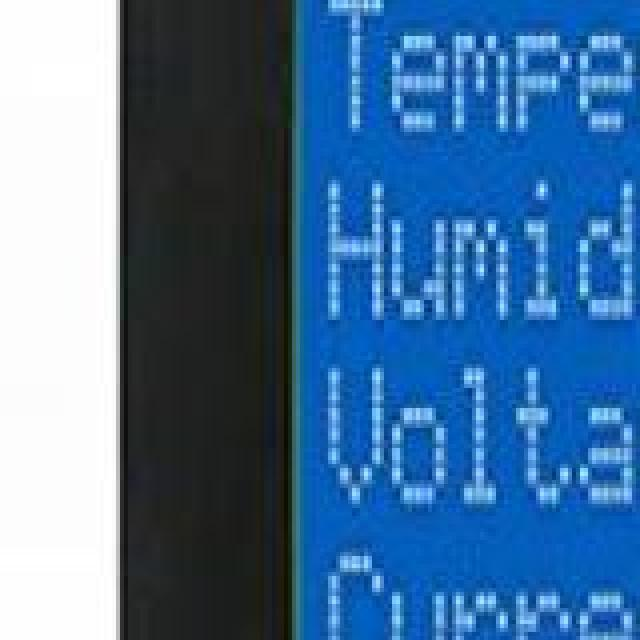display: (116, 0, 640, 640)
